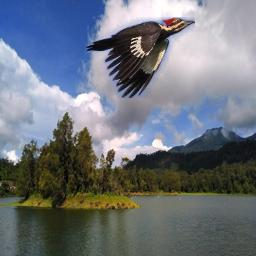Woodpecker: (85, 17, 195, 98)
